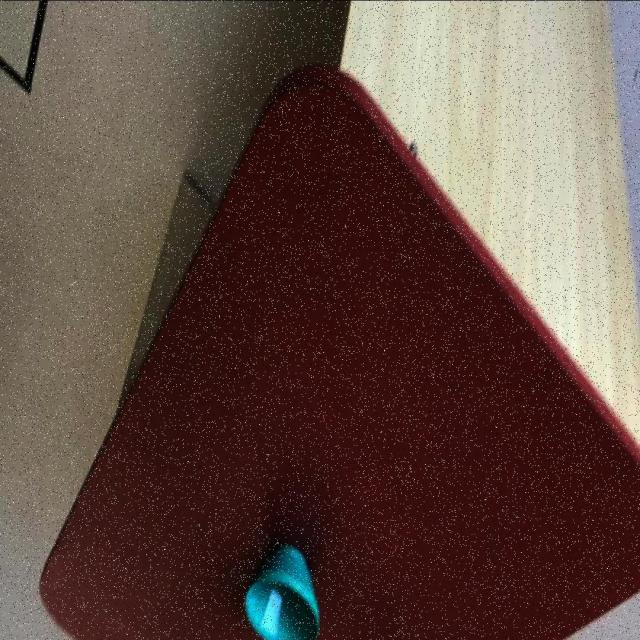Bowl: (37, 63, 640, 640), (242, 544, 319, 640)
